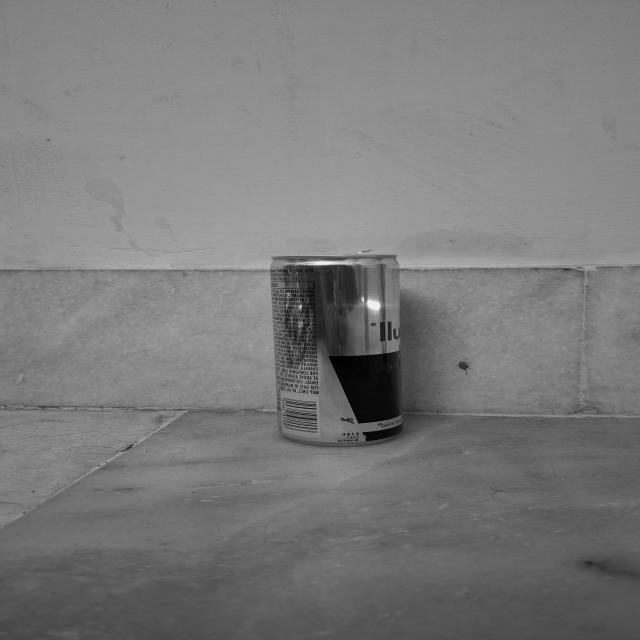Redbul: (264, 252, 418, 446)
